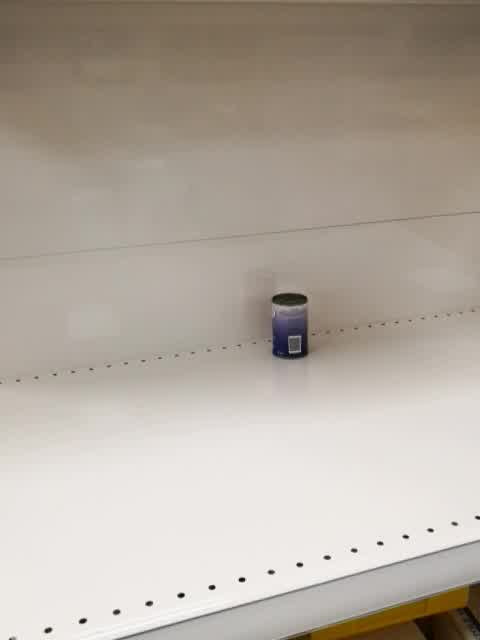sardine: (270, 292, 310, 361)
